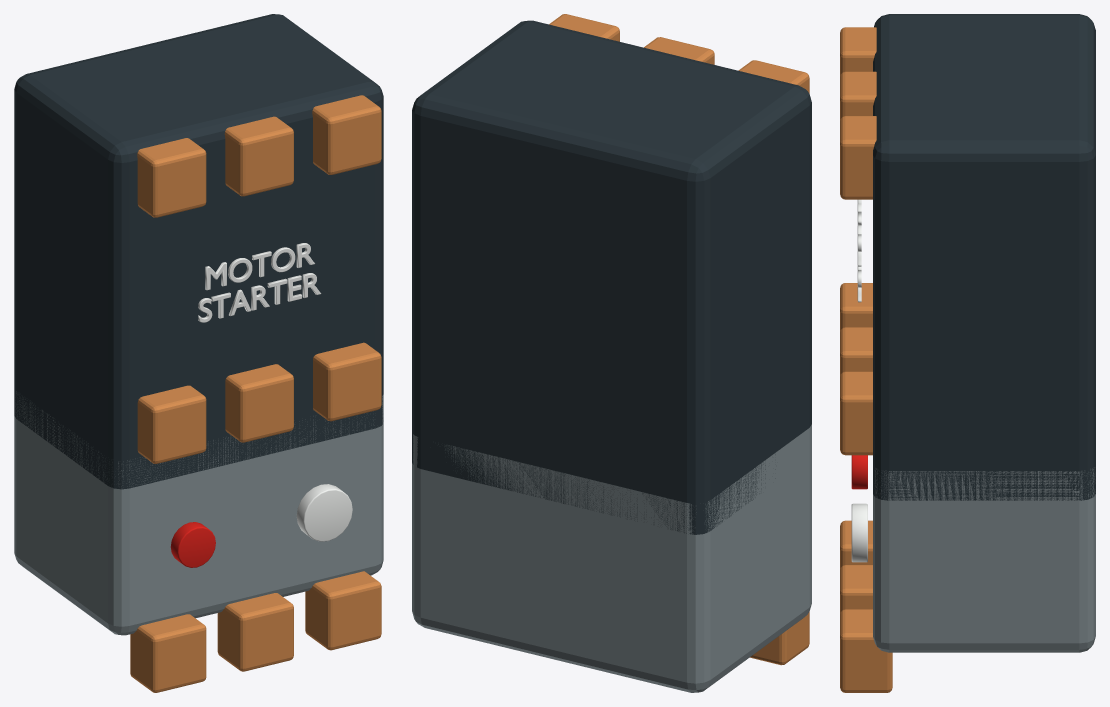
Rendered from contactor_overload_starter.glb.
3 renders of one model, left to right at view 1: azimuth 30°, elevation 25°; view 2: azimuth 150°, elevation 25°; view 3: azimuth 270°, elevation 25°, orthographic. The views are drawn at different scales.
Visible parts, largest first — view 1: CONTACTOR, OVERLOAD, POWER_LUG_0_0, POWER_LUG_0_2, POWER_LUG_0_1, POWER_LUG_2_0, POWER_LUG_2_1, POWER_LUG_2_2, POWER_LUG_1_0, POWER_LUG_1_1, POWER_LUG_1_2, STARTER_LABEL (+2 smaller); view 2: CONTACTOR, OVERLOAD, POWER_LUG_0_0, POWER_LUG_2_0, POWER_LUG_2_1, POWER_LUG_2_2; view 3: CONTACTOR, OVERLOAD, POWER_LUG_0_2, POWER_LUG_2_2, POWER_LUG_1_2, POWER_LUG_2_0, POWER_LUG_2_1, POWER_LUG_1_1, POWER_LUG_0_1, POWER_LUG_1_0, CLASS_DIAL, POWER_LUG_0_0 (+2 smaller).
Part boxes in pixels (bbox=[...]): CONTACTOR: bbox=[14, 14, 383, 489]; OVERLOAD: bbox=[14, 391, 383, 635]; POWER_LUG_0_0: bbox=[130, 614, 206, 692]; POWER_LUG_0_2: bbox=[305, 571, 381, 650]; POWER_LUG_0_1: bbox=[217, 593, 293, 671]; POWER_LUG_2_0: bbox=[137, 138, 206, 217]; POWER_LUG_2_1: bbox=[224, 116, 293, 196]; POWER_LUG_2_2: bbox=[312, 95, 381, 174]; POWER_LUG_1_0: bbox=[137, 385, 206, 463]; POWER_LUG_1_1: bbox=[225, 364, 293, 442]; POWER_LUG_1_2: bbox=[313, 342, 381, 421]; STARTER_LABEL: bbox=[198, 243, 321, 322]; CONTACTOR: bbox=[412, 20, 811, 534]; OVERLOAD: bbox=[412, 424, 811, 692]; POWER_LUG_0_0: bbox=[750, 611, 809, 665]; POWER_LUG_2_0: bbox=[738, 60, 809, 93]; POWER_LUG_2_1: bbox=[644, 37, 714, 64]; POWER_LUG_2_2: bbox=[549, 14, 619, 41]; CONTACTOR: bbox=[873, 14, 1095, 500]; OVERLOAD: bbox=[873, 467, 1095, 652]; POWER_LUG_0_2: bbox=[840, 609, 892, 692]; POWER_LUG_2_2: bbox=[840, 116, 876, 199]; POWER_LUG_1_2: bbox=[840, 371, 872, 455]; POWER_LUG_2_0: bbox=[840, 27, 876, 76]; POWER_LUG_2_1: bbox=[840, 71, 876, 120]; POWER_LUG_1_1: bbox=[840, 327, 872, 376]; POWER_LUG_0_1: bbox=[840, 565, 872, 613]; POWER_LUG_1_0: bbox=[840, 283, 872, 331]; CLASS_DIAL: bbox=[851, 503, 867, 562]; POWER_LUG_0_0: bbox=[840, 520, 872, 569].
Size of the model in its own units: 0.5 by 0.94 by 0.39.
